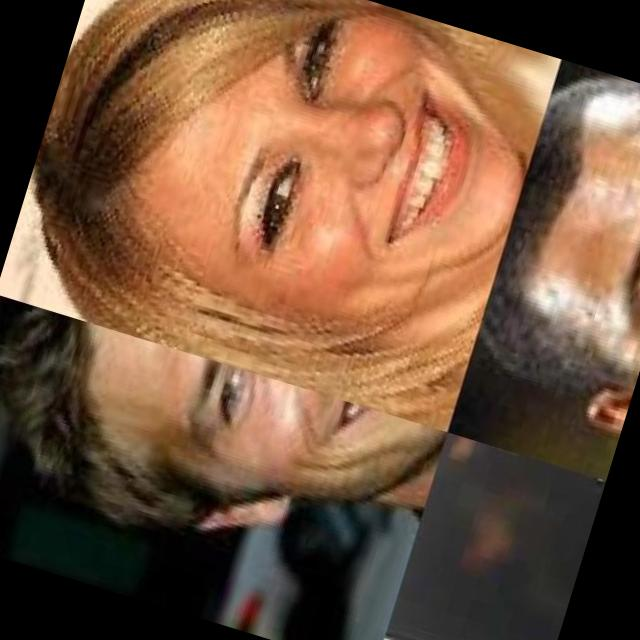bareface: (70, 0, 535, 413)
